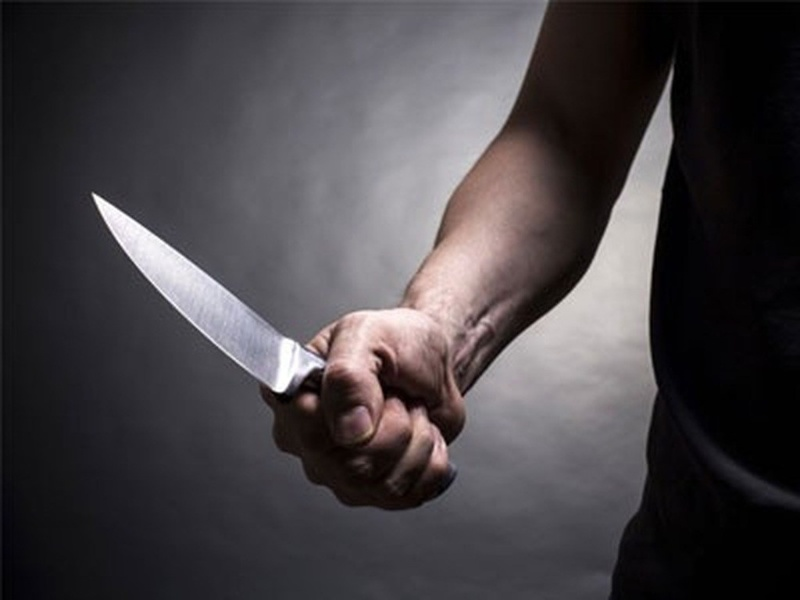hand: (268, 301, 473, 511)
knife: (89, 192, 328, 398)
